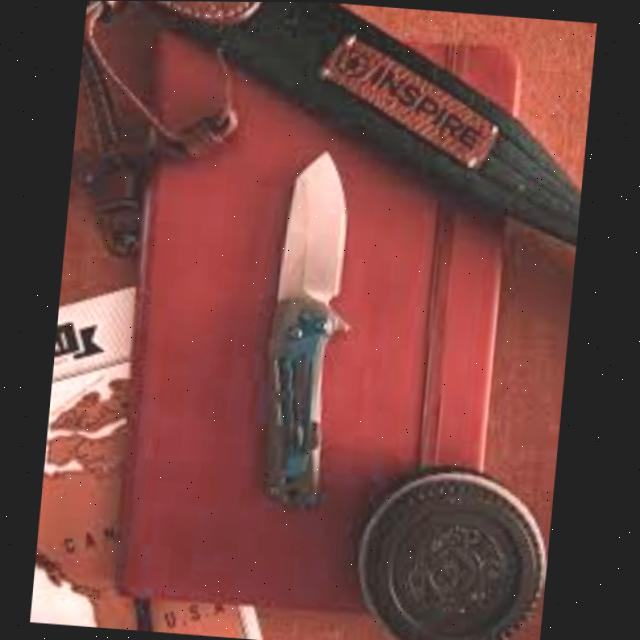Knife: (256, 144, 364, 509)
